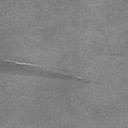finishing roll printing: (0, 59, 76, 80), (77, 76, 83, 80)
